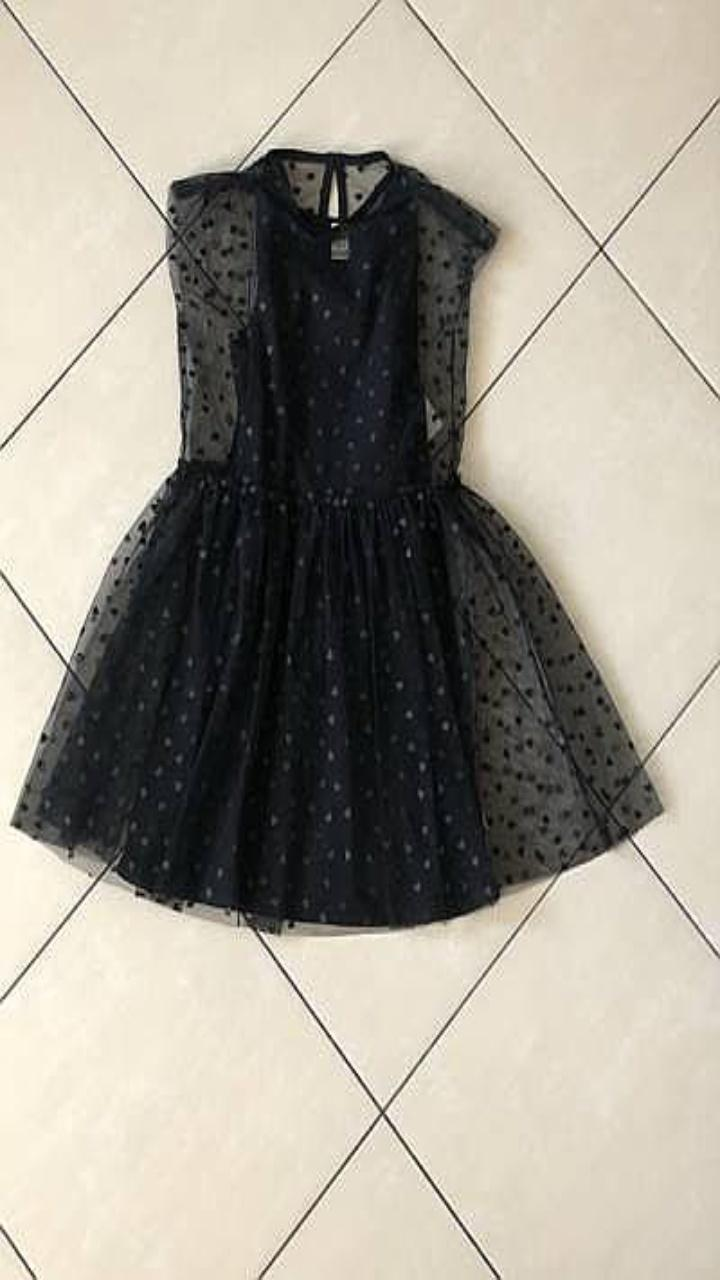Dresses: (11, 147, 662, 930)
